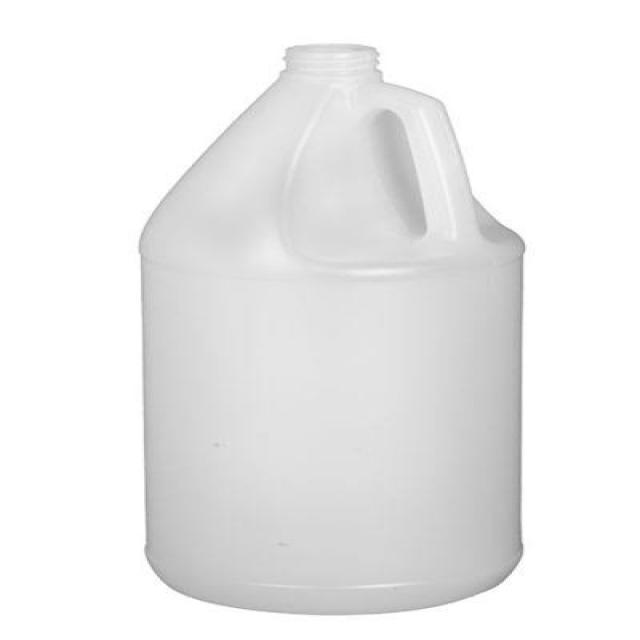plastic bottle: (106, 39, 557, 618)
